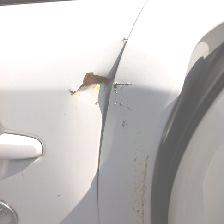door_dent: (61, 63, 130, 127), (116, 146, 152, 222)
